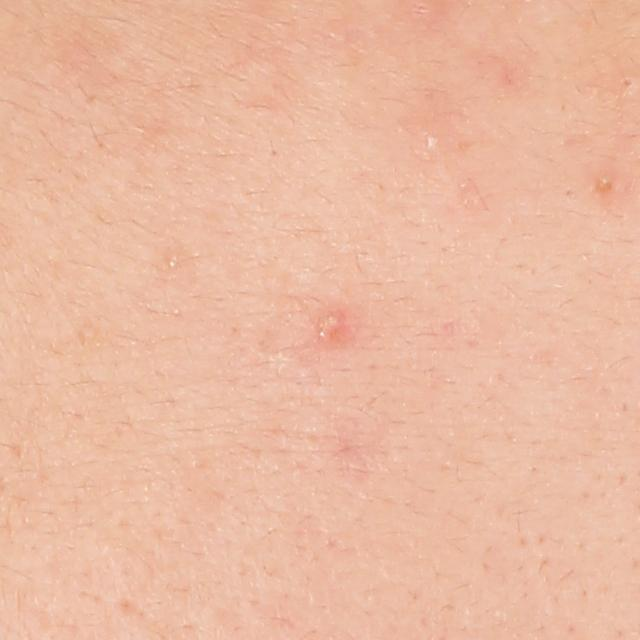comedo: (159, 251, 182, 273), (618, 74, 640, 95), (593, 175, 613, 196)
papule: (313, 313, 350, 344)
